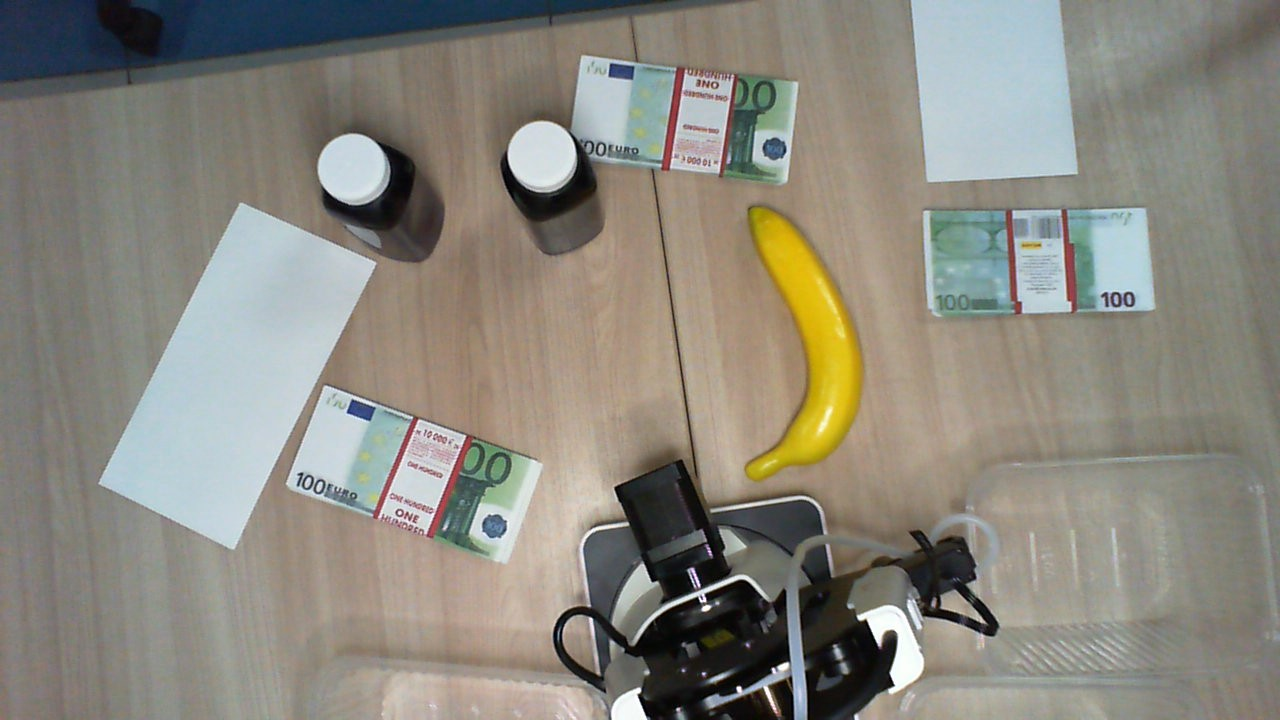banana: (743, 208, 863, 480)
bottle: (496, 117, 600, 219), (314, 135, 413, 227)
convert: (92, 200, 383, 554), (918, 1, 1079, 187)
money: (289, 385, 550, 561), (566, 50, 804, 181), (917, 204, 1154, 321)
